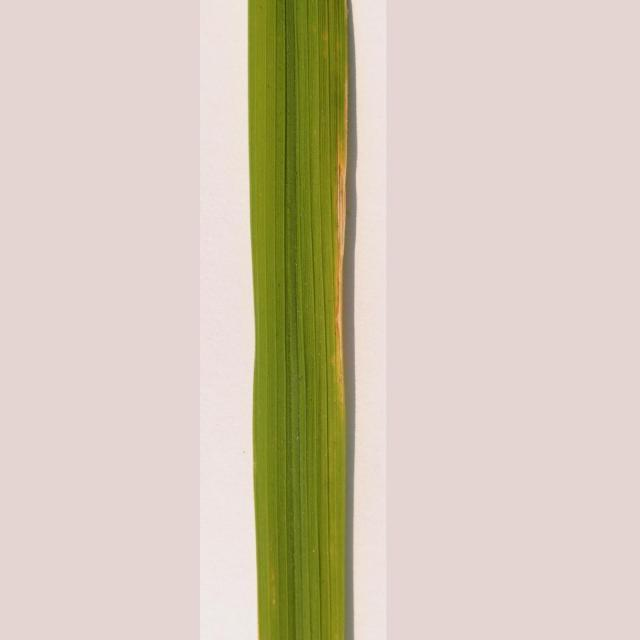leaf blight: (323, 84, 359, 400)
